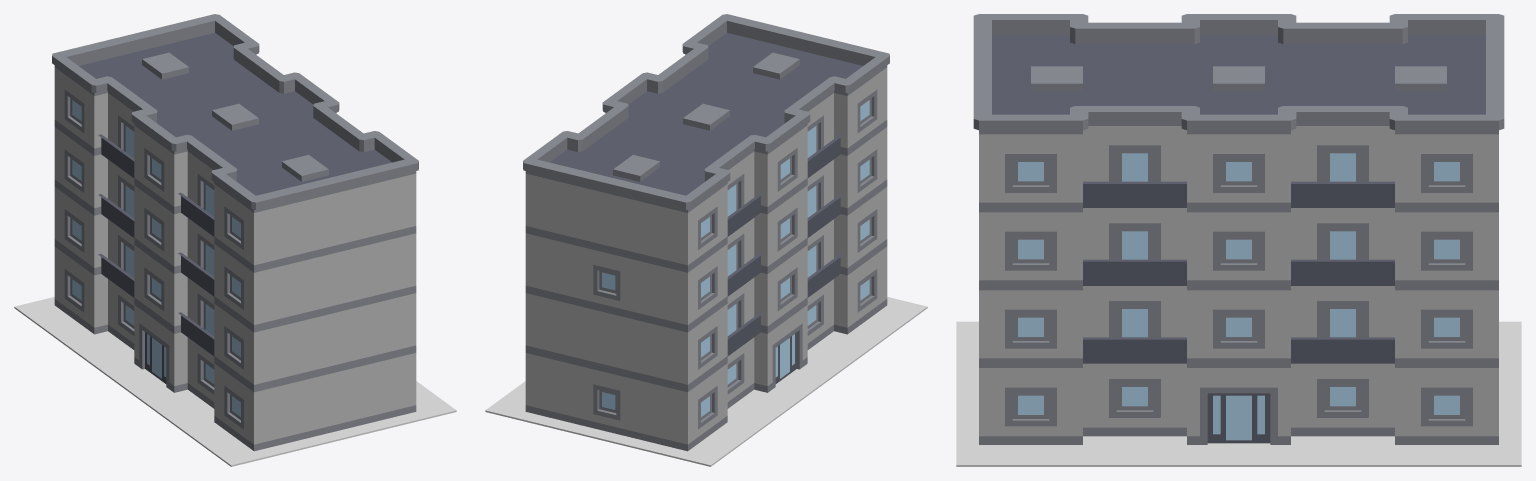
3 renders of one model, left to right at view 1: azimuth 30°, elevation 25°; view 2: azimuth 150°, elevation 25°; view 3: azimuth 270°, elevation 25°, orthographic. The views are drawn at different scales.
Visible parts, largest first — view 1: large_buildingA, Cube; view 2: large_buildingA, Cube; view 3: large_buildingA, Cube.
Part boxes in pixels (x1,y1,x2,y2): large_buildingA: (52, 14, 418, 451); Cube: (14, 297, 456, 466); large_buildingA: (523, 14, 889, 451); Cube: (485, 297, 927, 466); large_buildingA: (973, 14, 1504, 444); Cube: (956, 321, 1521, 466).
Bounding box in the file's own units: 30 × 32.02 × 50.
